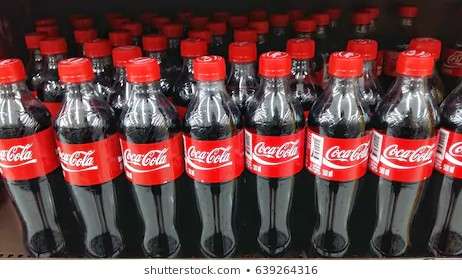coke-bottle-700ml: (52, 56, 134, 259), (302, 42, 378, 256), (364, 46, 445, 246), (246, 46, 307, 260), (122, 61, 184, 252), (185, 53, 243, 257)
